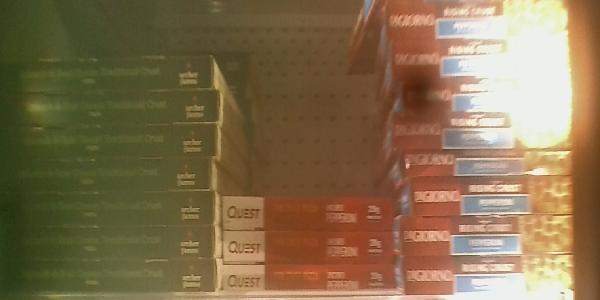pizza2: (389, 1, 592, 42), (5, 260, 218, 297), (7, 191, 217, 228), (2, 90, 222, 125), (5, 52, 218, 87), (395, 113, 570, 155), (1, 125, 215, 159), (6, 226, 215, 260), (410, 255, 574, 296), (1, 155, 210, 186), (402, 75, 573, 112), (407, 215, 573, 253), (219, 191, 394, 227), (405, 148, 574, 185), (215, 229, 402, 262), (413, 181, 572, 218), (395, 41, 573, 74), (222, 265, 404, 293)
